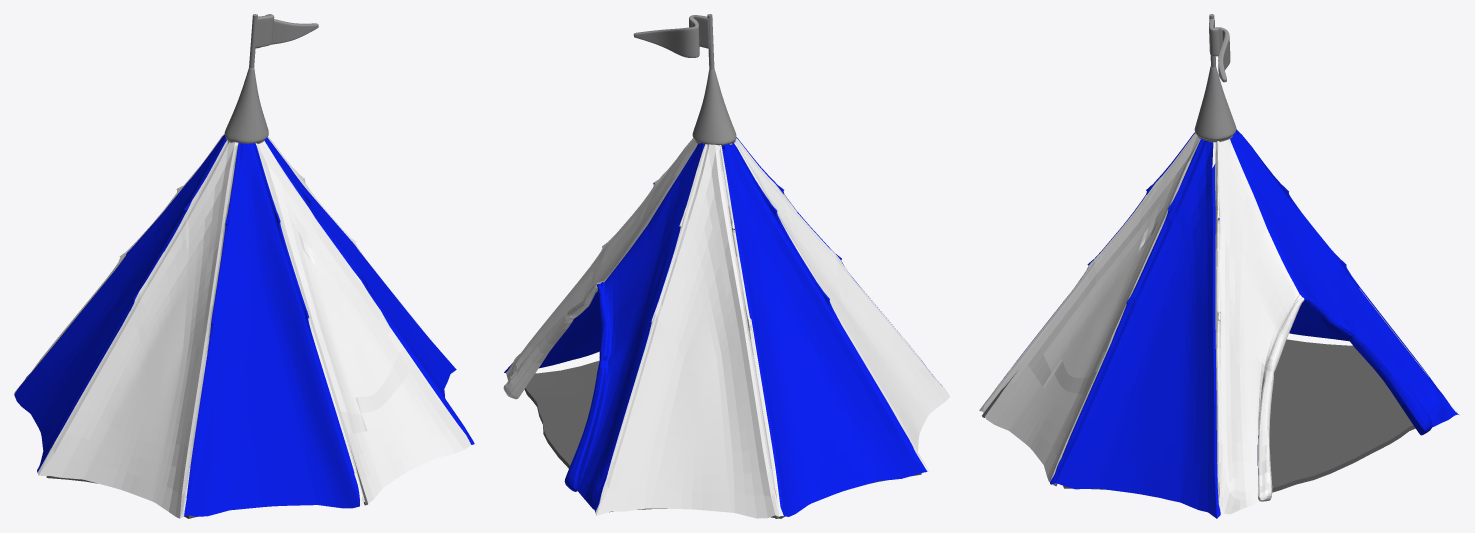
Rendered from tent.FBX.
3 views of the same model, side by side, from view 1: azimuth 30°, elevation 25°; view 2: azimuth 150°, elevation 25°; view 3: azimuth 270°, elevation 25° (orthographic).
Visible parts, largest first — view 1: polySurface7, Object005, white, Object004, Object001, upper, Object003; view 2: Object003, Object004, Object002, Object005, too1, pDisc1, upper, Object001; view 3: Object001, too1, white, pDisc1, Object002, upper, Object004, polySurface7.
Part boxes in pixels (<box>): polySurface7: <box>184,139,473,516</box>; Object005: <box>37,140,238,518</box>; white: <box>255,141,470,505</box>; Object004: <box>14,135,227,472</box>; Object001: <box>265,137,474,443</box>; upper: <box>224,14,318,143</box>; Object003: <box>14,134,224,393</box>; Object003: <box>595,144,783,518</box>; Object004: <box>721,142,927,516</box>; Object002: <box>564,143,705,512</box>; Object005: <box>734,138,950,471</box>; too1: <box>503,138,697,399</box>; pDisc1: <box>524,360,921,518</box>; upper: <box>633,14,736,145</box>; Object001: <box>504,290,601,372</box>; Object001: <box>1050,138,1220,518</box>; too1: <box>1212,139,1304,514</box>; white: <box>979,133,1200,481</box>; pDisc1: <box>1063,339,1415,492</box>; Object002: <box>1230,129,1458,435</box>; upper: <box>1194,14,1236,142</box>; Object004: <box>1289,301,1349,341</box>; polySurface7: <box>987,132,1307,483</box>.
Bounding box in the file's own units: 47.36 × 43.98 × 46.94.
